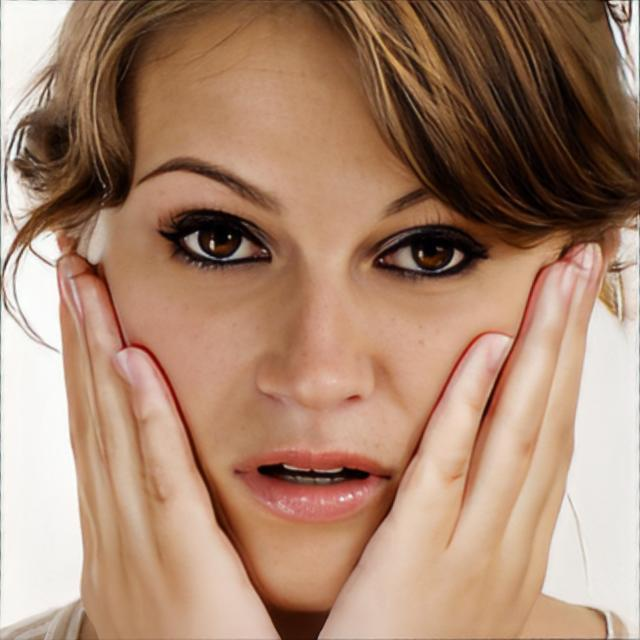surprise: (103, 0, 575, 616)
